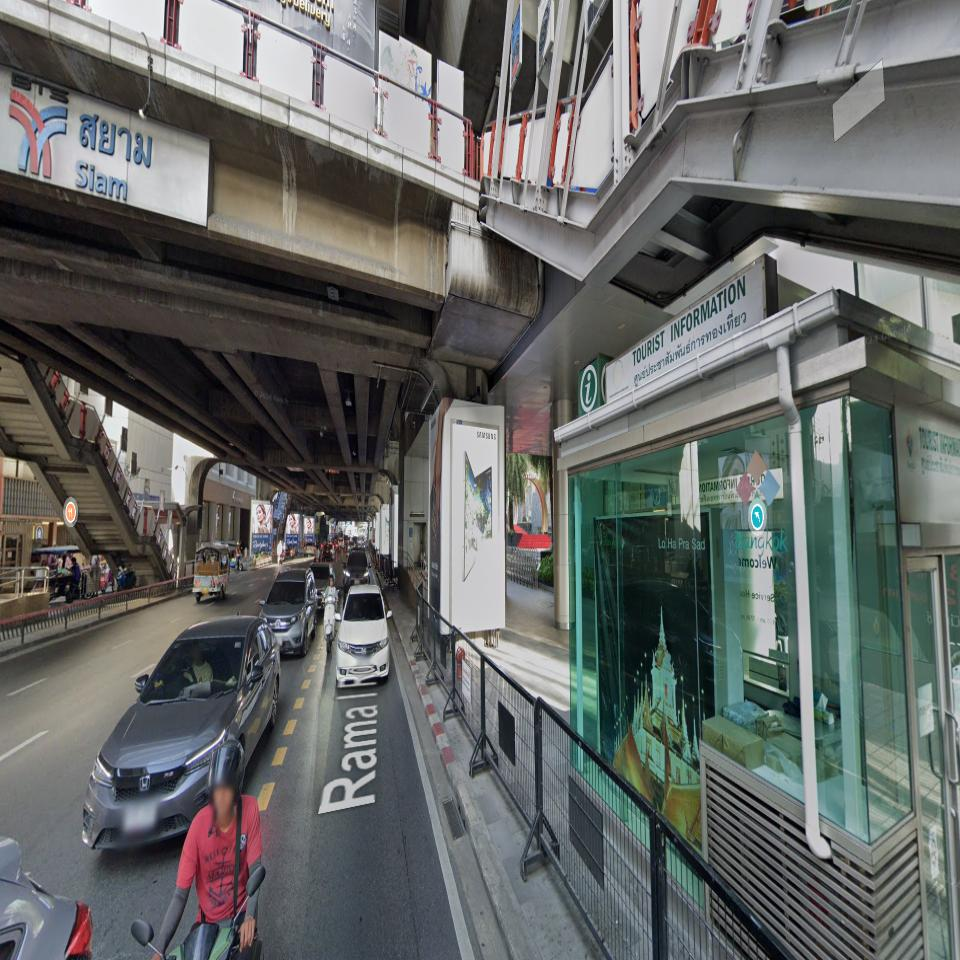Siam: (8, 71, 154, 201), (75, 110, 154, 201)
